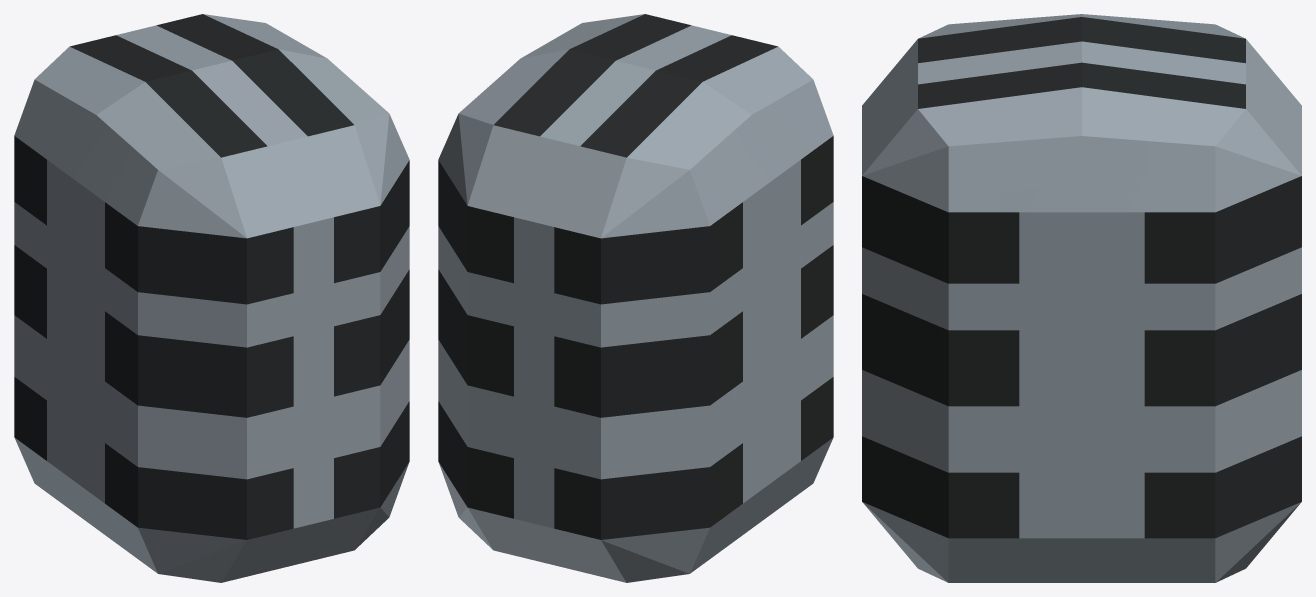
The model's file is SM_Prop_Microphone_02.obj.
The picture shows the model from 3 angles, left to right: view 1: azimuth 30°, elevation 25°; view 2: azimuth 150°, elevation 25°; view 3: azimuth 270°, elevation 25°; orthographic projection. The views are drawn at different scales.
Visible parts, largest first — view 1: SM_Prop_Microphone_02_0; view 2: SM_Prop_Microphone_02_0; view 3: SM_Prop_Microphone_02_0.
Part boxes in pixels (x1,y1,x2,y2): SM_Prop_Microphone_02_0: [14, 14, 409, 582]; SM_Prop_Microphone_02_0: [438, 14, 833, 582]; SM_Prop_Microphone_02_0: [862, 14, 1301, 582].
Bounding box in the file's own units: 0.0745 × 0.1195 × 0.0966.
Materials: 1 (1 with a texture image).
